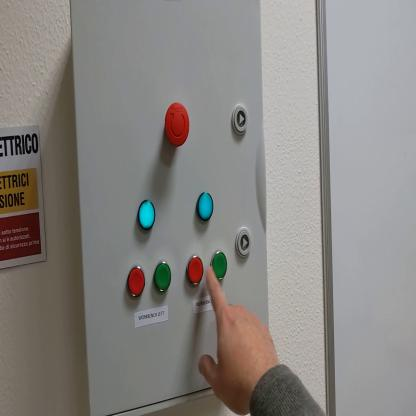hand: (198, 263, 280, 408)
left green button: (153, 259, 173, 295)
left red button: (128, 265, 148, 301)
right green button: (213, 250, 229, 281)
right red button: (188, 257, 206, 289)
